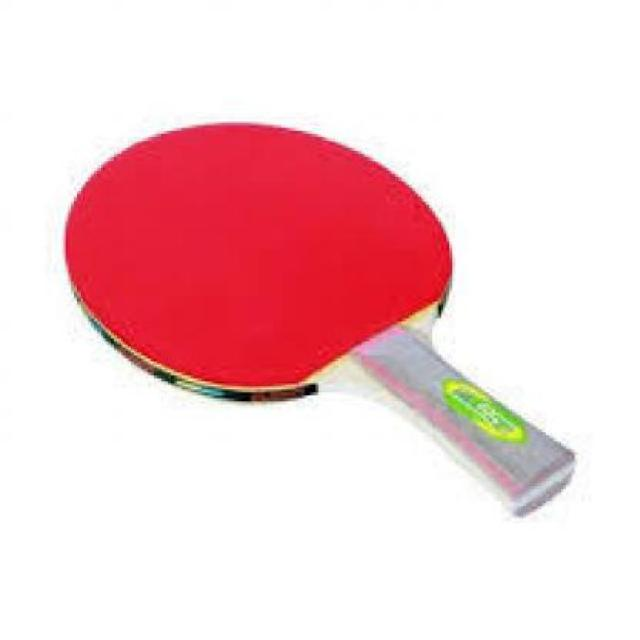table_tennis_racket: (59, 116, 459, 402)
